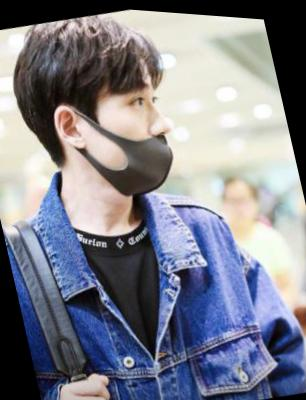WRONG: (85, 62, 186, 203)
